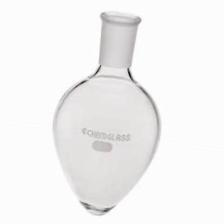Pear shaped flask: (37, 9, 171, 213)
